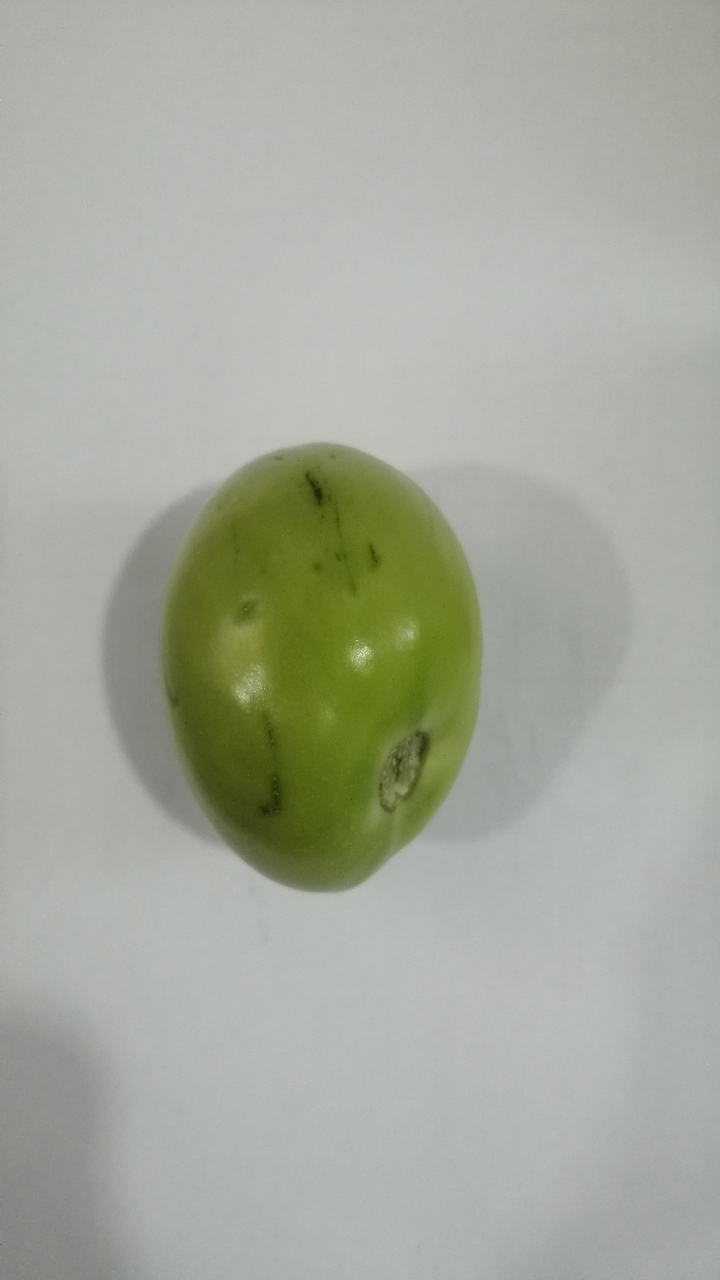tomateVerde: (129, 411, 503, 902)
